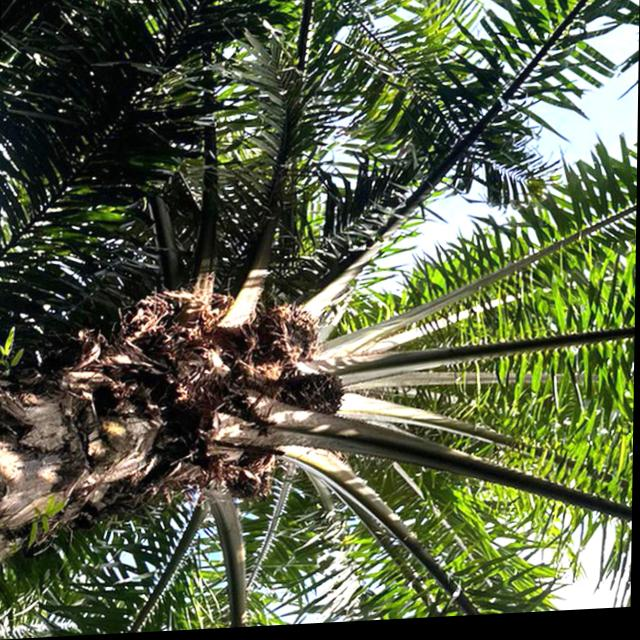unripe: (276, 366, 353, 428)
